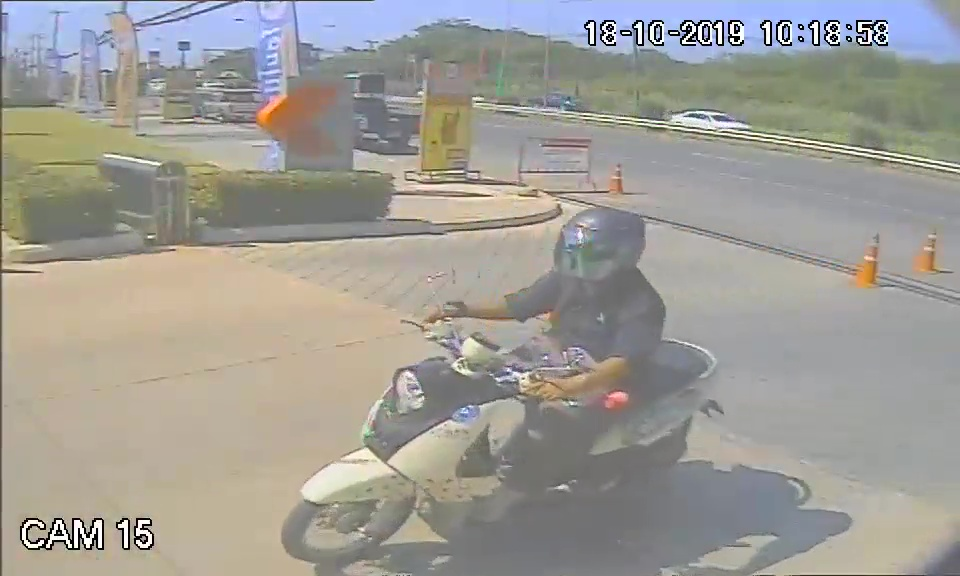motorcycle: (278, 325, 730, 569)
